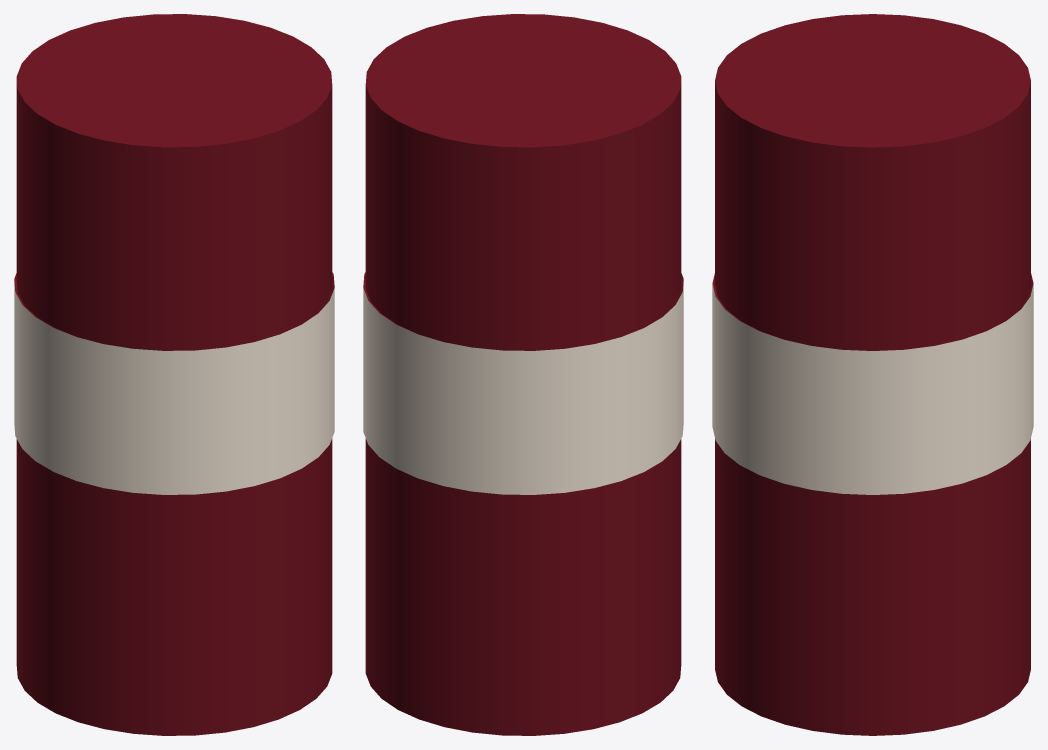
Rendered from barrelBoom.fbx.
3 views of the same model, side by side, from view 1: azimuth 30°, elevation 25°; view 2: azimuth 150°, elevation 25°; view 3: azimuth 270°, elevation 25° (orthographic).
Parts seen in each view (by area): view 1: Cylinder; view 2: Cylinder; view 3: Cylinder.
Boxes of the visible parts, x1,y1,x2,y2 form: Cylinder: (14,14,334,735); Cylinder: (363,14,683,735); Cylinder: (712,14,1033,735).
Bounding box in the file's own units: 324 × 656 × 324.
